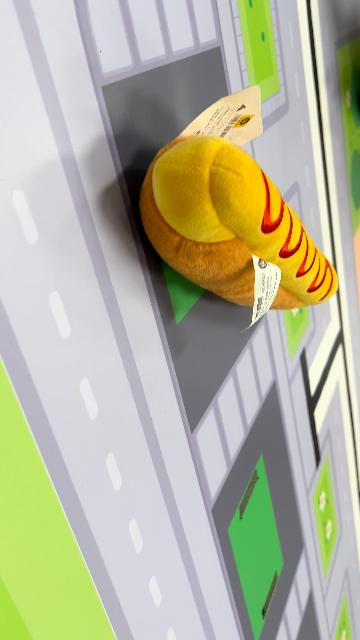hotdog: (138, 133, 340, 314)
